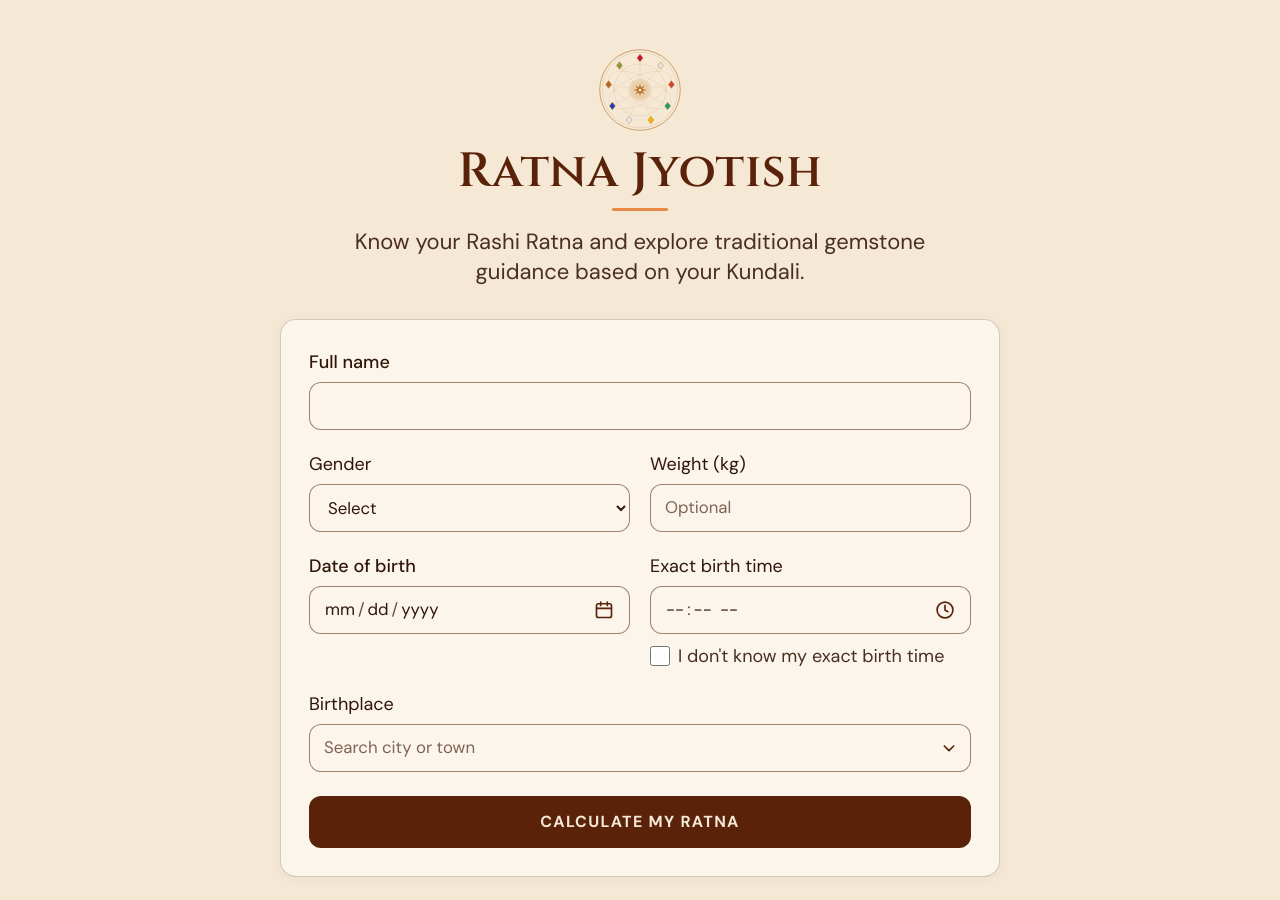
Test: Ratna Jyotish form › clears a stale stored result when a new calculation starts
Type "Asha Verma" into the field labelled "Full name".
click(640, 406); type("Asha Verma")  # box [309,382,971,430]
Select "Female" in the dropdown labelled "Gender" at (470, 508), box [309,484,630,532]
Type "58" into the number field labelled "Weight (kg)".
click(810, 508); type("58")  # box [650,484,971,532]
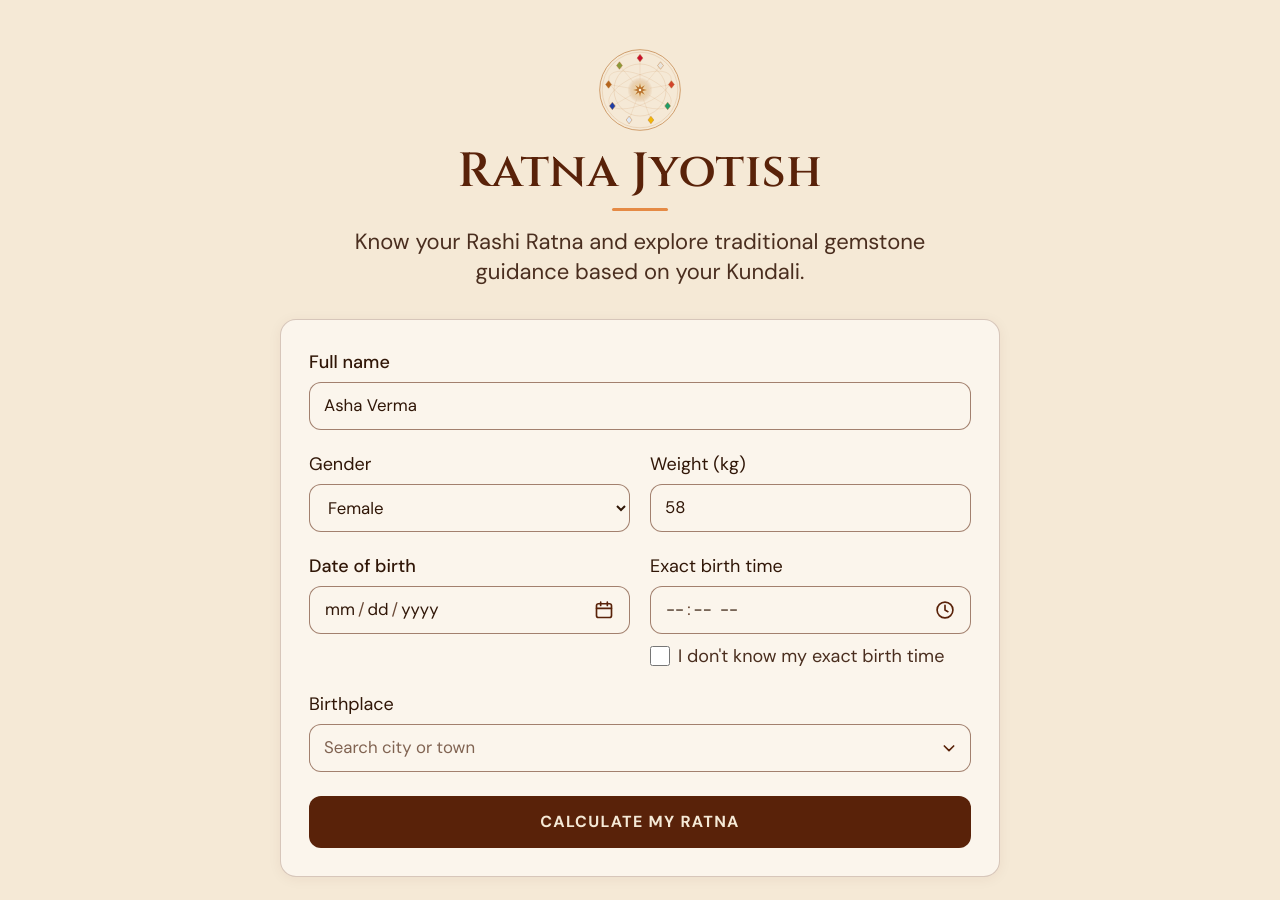
Type "1990-05-05" into the date field labelled "Date of birth".
click(470, 610); type("1990-05-05")  # box [309,586,630,634]
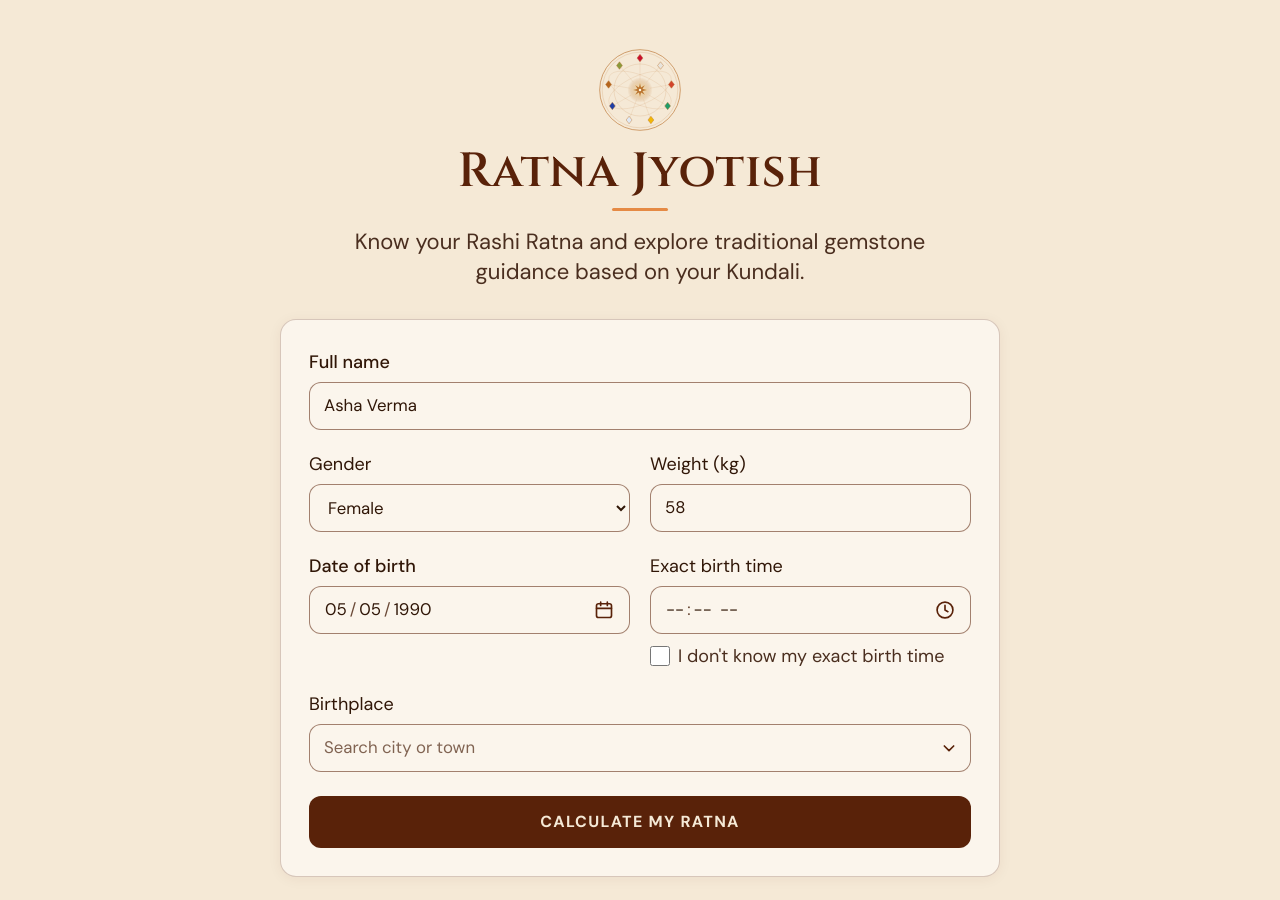
Type "10:00" into the time field labelled "Exact birth time".
click(810, 610); type("10:00")  # box [650,586,971,634]
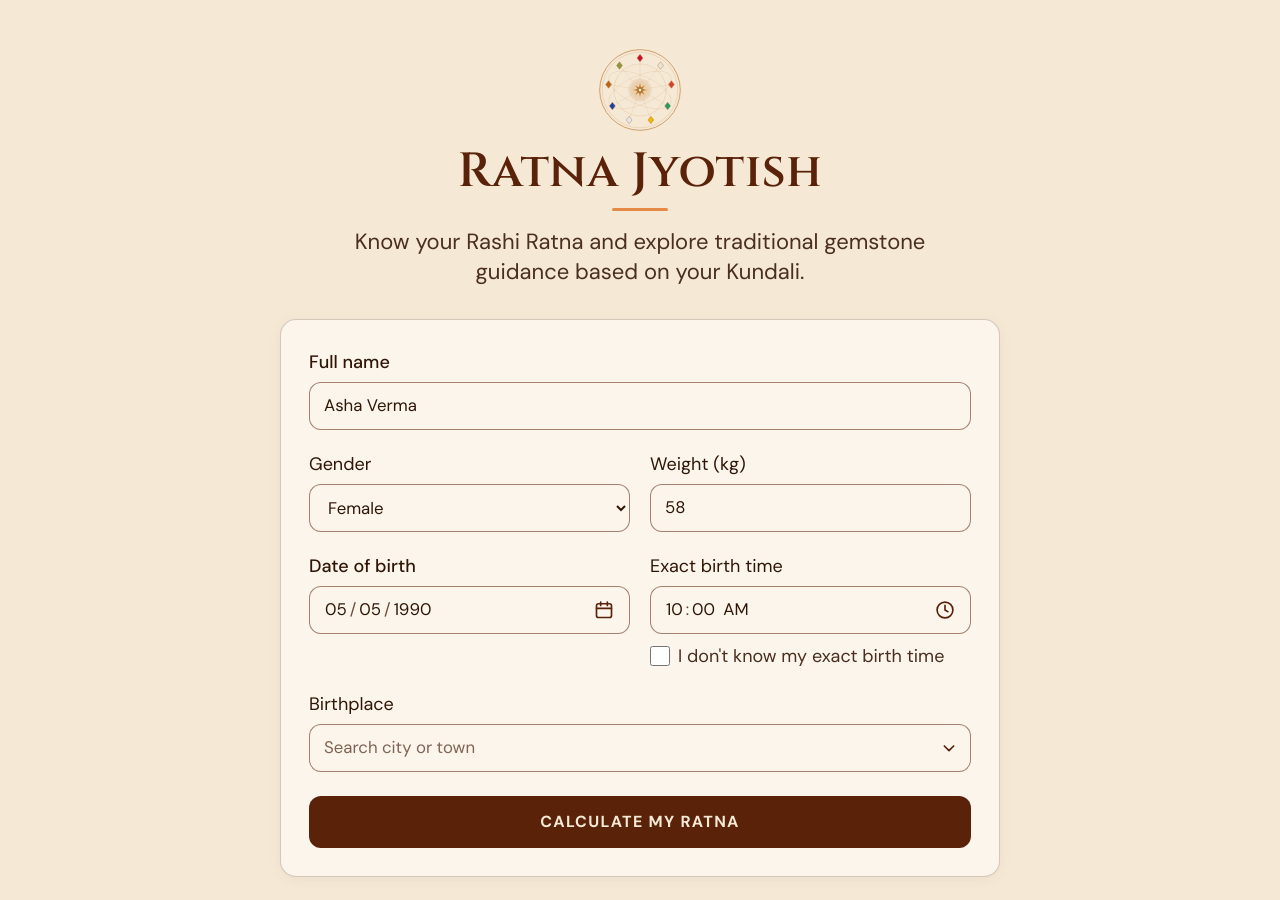
Type "Delhi" into the dropdown named "Birthplace".
click(640, 748); type("Delhi")  # box [309,724,971,772]
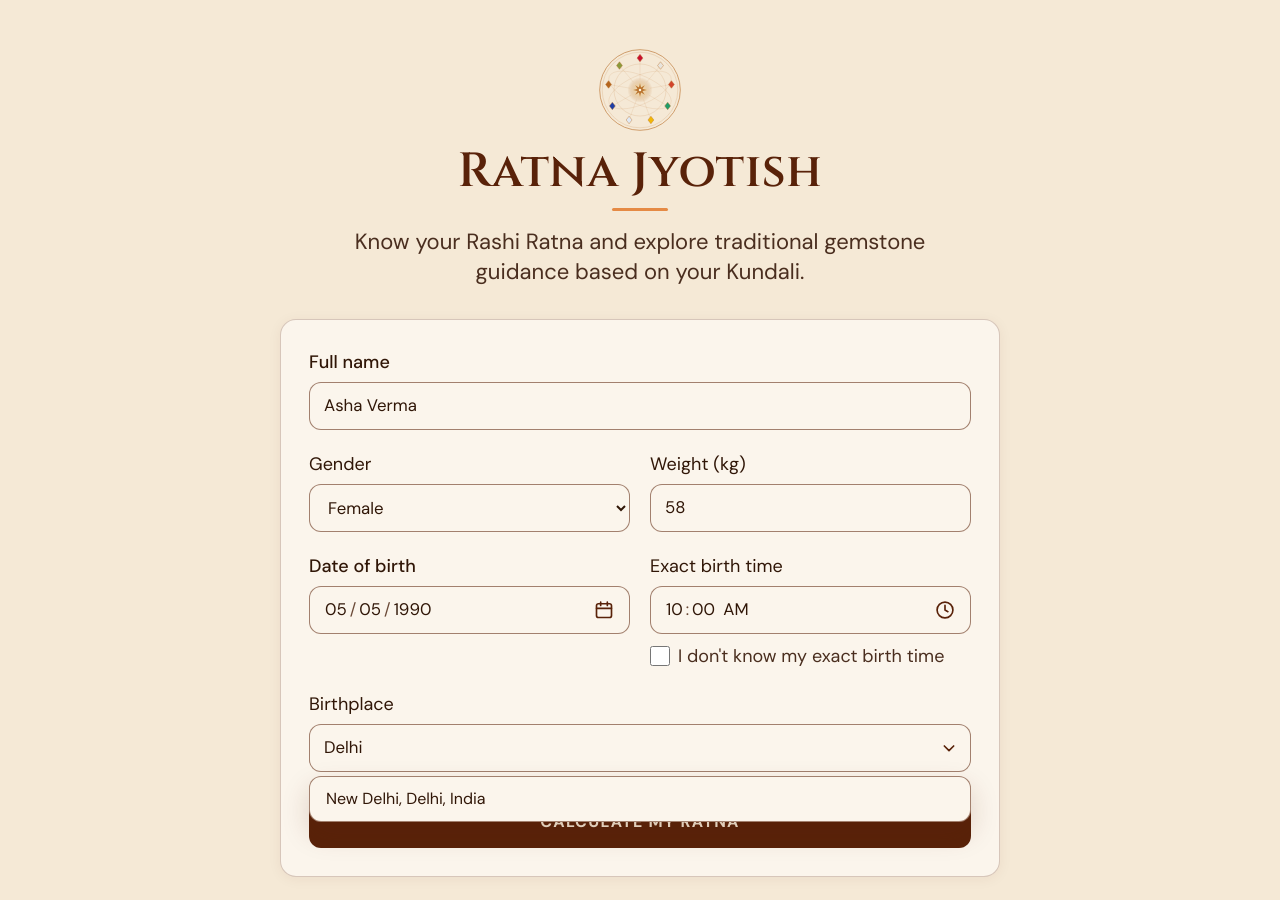
Press the mouse on the option "New Delhi, Delhi, India" at (406, 798), box [326,788,486,809]
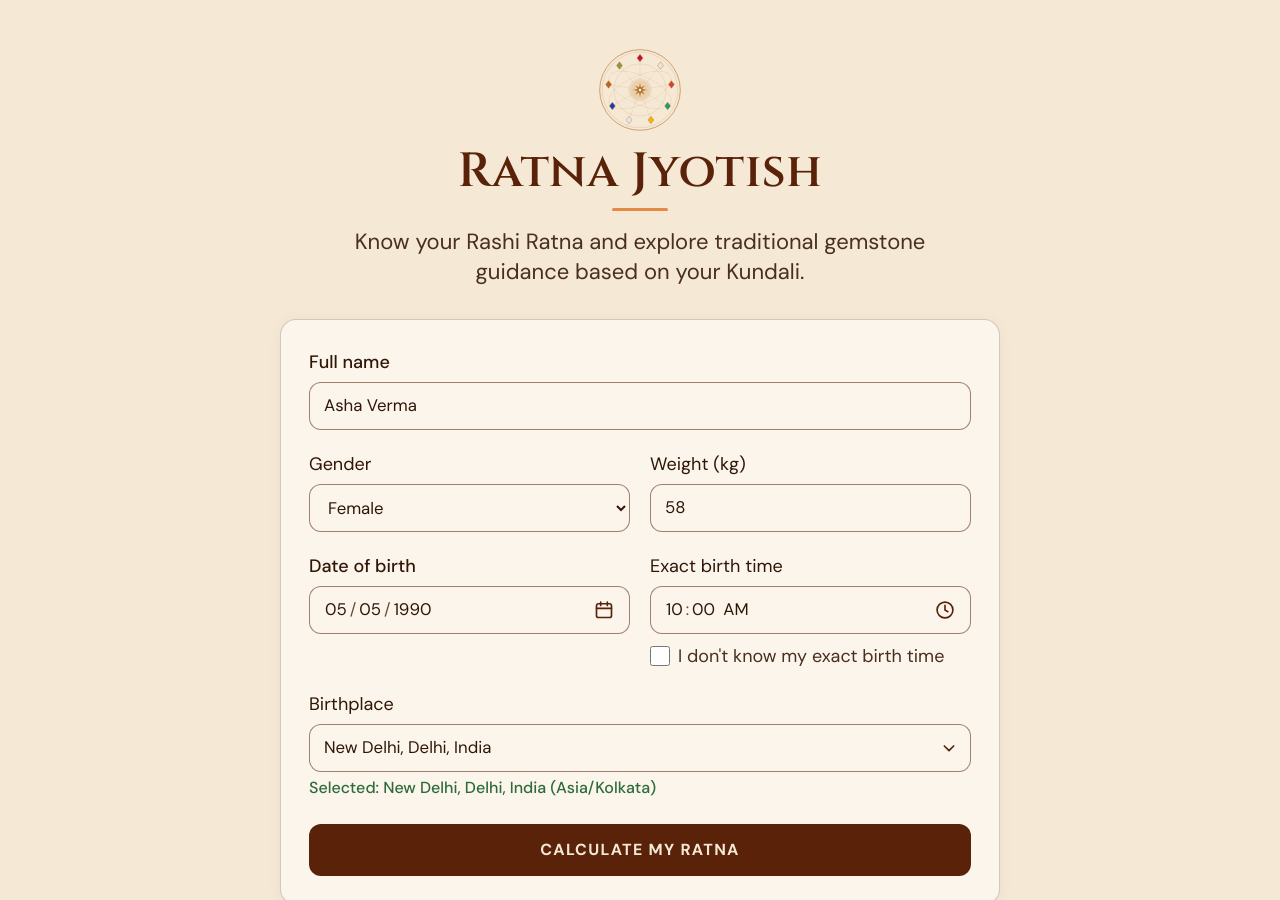
Click the button "CALCULATE MY RATNA".
click(640, 850)  # box [309,824,971,876]
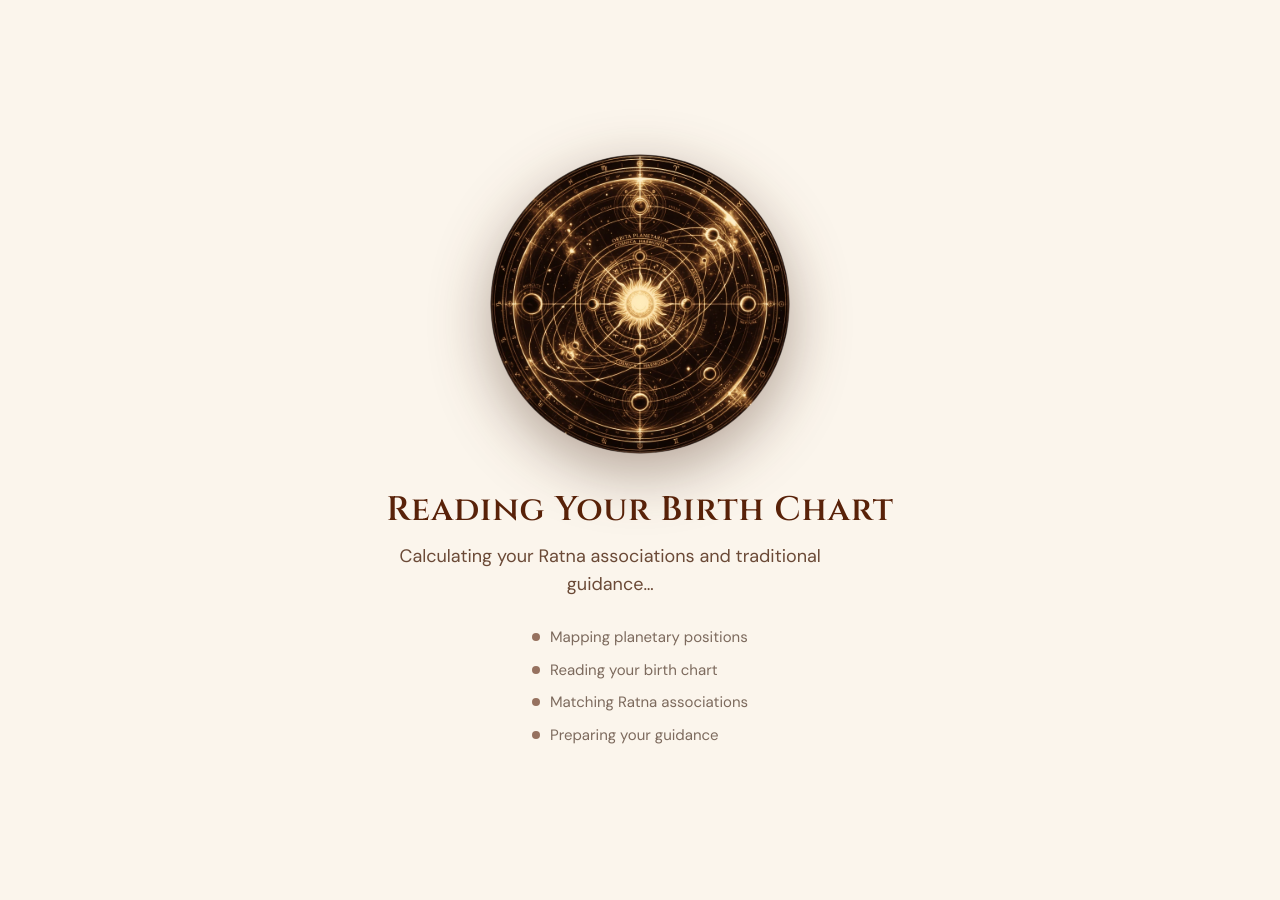
Expected: the element with test id "ratna-loader" is shown
